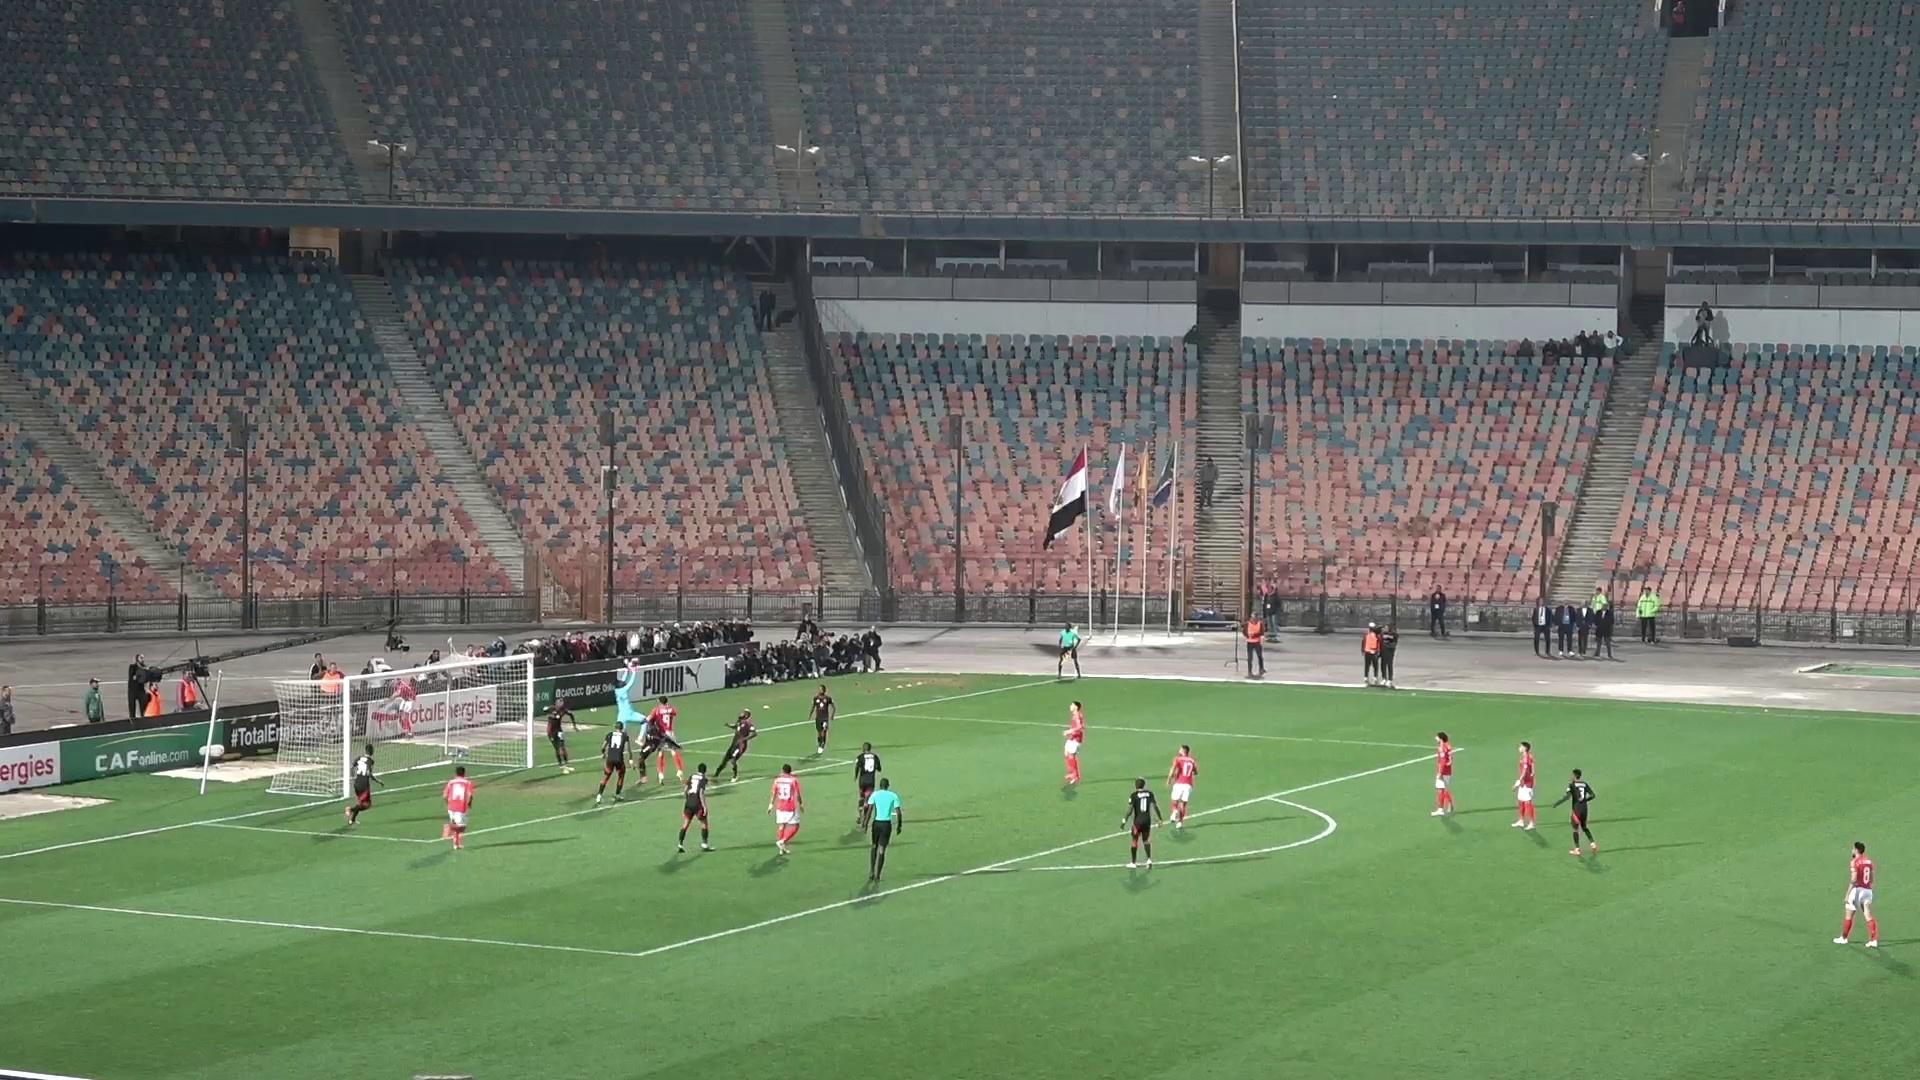Ball: (618, 633, 653, 657)
GK2: (615, 657, 645, 741)
Refree: (866, 778, 902, 885), (1055, 622, 1087, 676)
Team1: (1833, 841, 1879, 947), (767, 765, 802, 855), (647, 696, 682, 778), (440, 765, 473, 849), (1166, 745, 1197, 828), (1429, 731, 1458, 816), (1511, 741, 1536, 829), (1062, 702, 1085, 789)
Team2: (535, 680, 576, 773), (1121, 778, 1160, 868), (1560, 769, 1598, 855), (713, 709, 757, 779), (676, 770, 713, 852), (593, 723, 630, 804), (345, 744, 378, 825), (810, 683, 836, 756), (853, 741, 881, 796)
